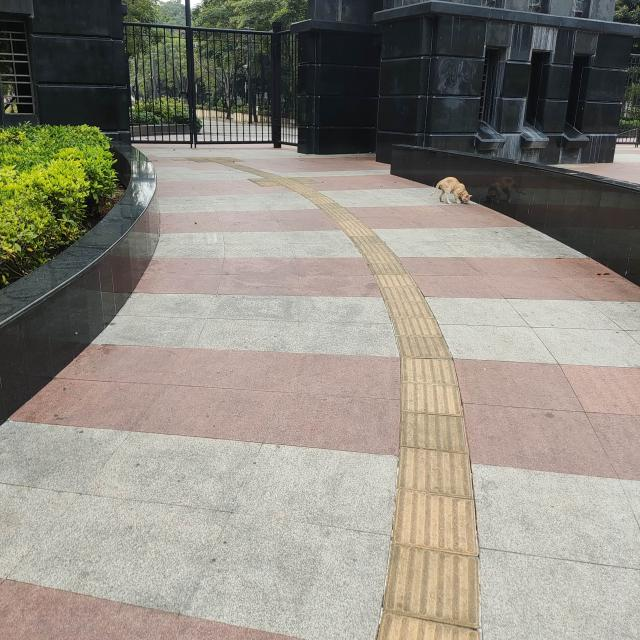lurus: (371, 266, 481, 640)
